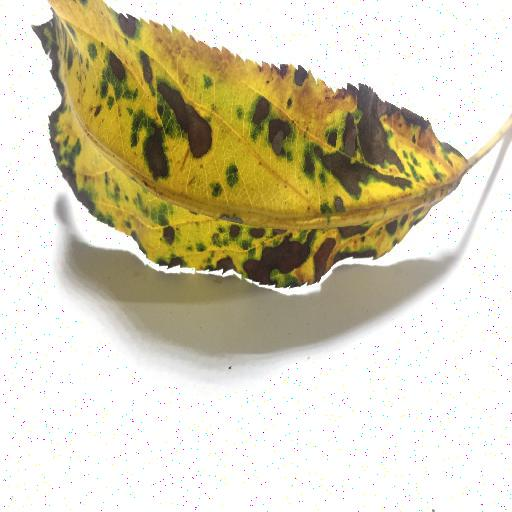Brown_Spot: (245, 97, 436, 195), (223, 224, 345, 275), (161, 84, 217, 154), (143, 131, 174, 180), (152, 220, 179, 242), (139, 55, 158, 84), (108, 49, 124, 79), (116, 15, 133, 26)
